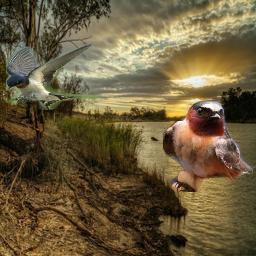Swallow: (163, 101, 253, 192), (6, 42, 102, 110)
